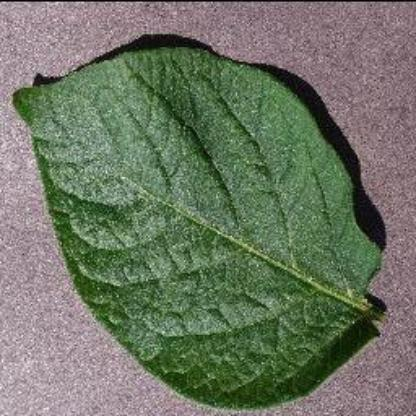Healthy-plant: (10, 41, 402, 410)
